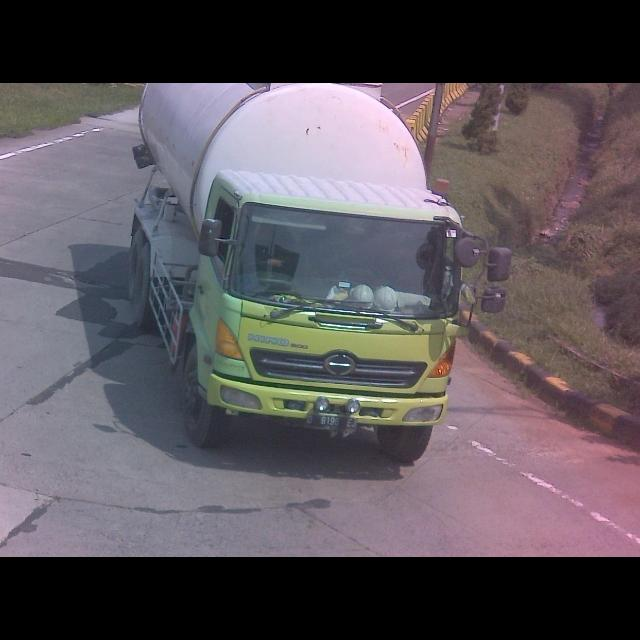plate: (304, 413, 358, 433)
